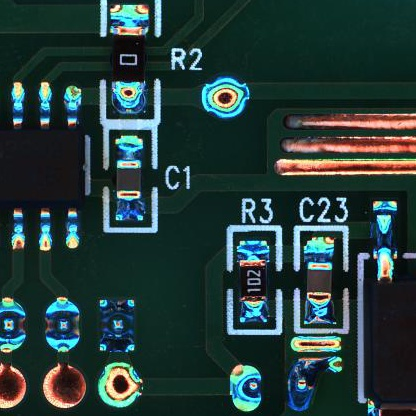spot: (42, 296, 82, 354), (95, 297, 135, 355), (200, 76, 251, 119), (227, 362, 264, 414), (1, 294, 26, 355)
